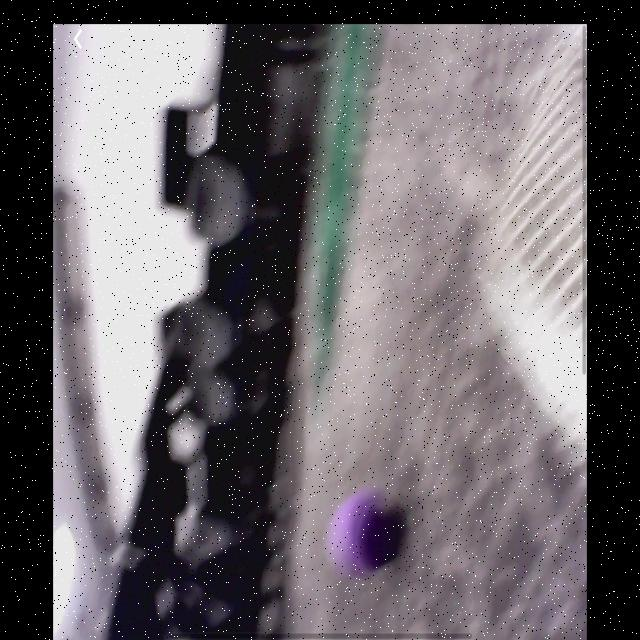ball: (331, 492, 392, 574)
